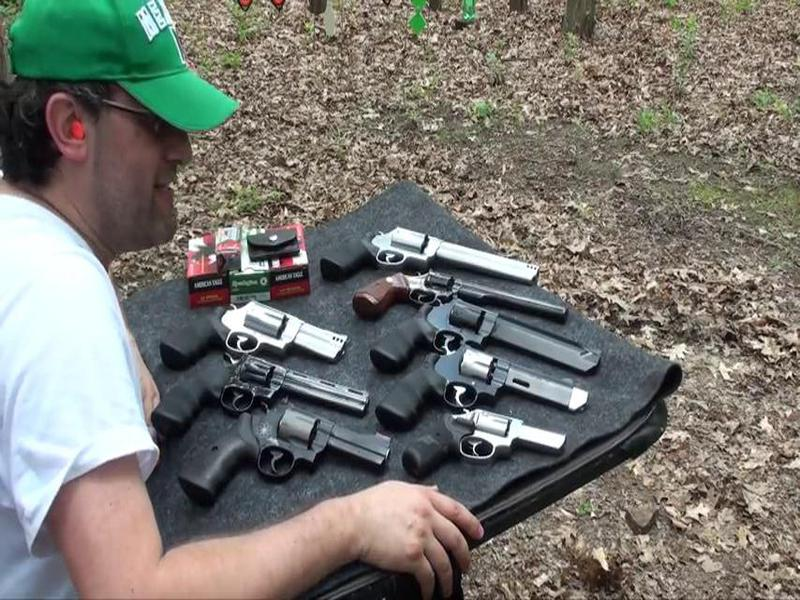Revolver: (152, 287, 356, 379)
